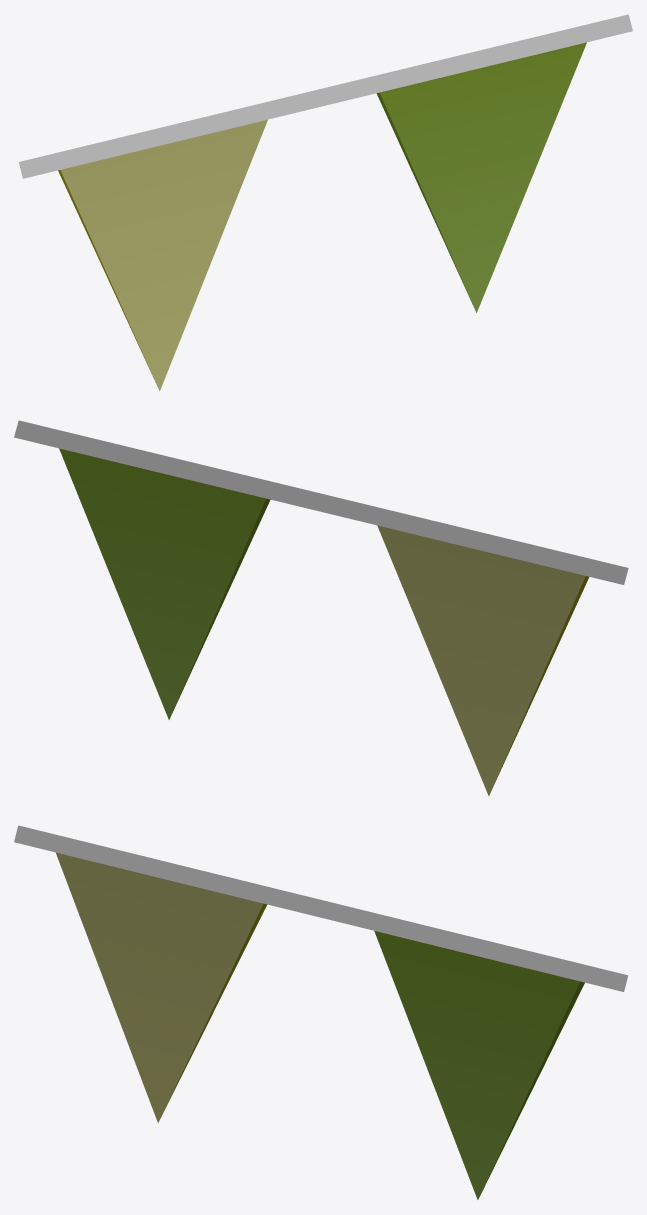
Rendered from pennantGreenYellow.glb.
The picture shows the model from 3 angles, top to bottom: view 1: azimuth 30°, elevation 25°; view 2: azimuth 150°, elevation 25°; view 3: azimuth 330°, elevation 25°; orthographic projection.
Visible parts, largest first — view 1: pennantGreenYellow; view 2: pennantGreenYellow; view 3: pennantGreenYellow.
Boxes of the visible parts, x1,y1,x2,y2 form: pennantGreenYellow: (18,14,632,391); pennantGreenYellow: (14,420,628,796); pennantGreenYellow: (14,825,628,1199).
Size of the model in its own units: 0.9588 by 0.3963 by 0.0244.
